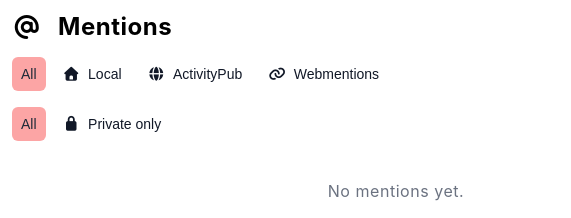
Test: MentionsView › shows the filtered empty state with active filters
Click the button "Local".
click(92, 74)  # box [54, 57, 131, 91]
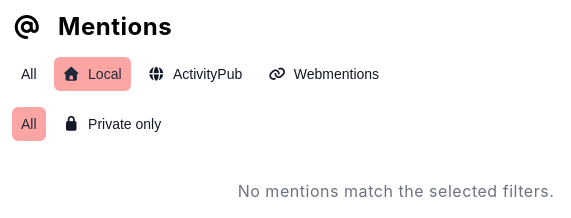
Expected: the text "No mentions match the selected filters." is shown, [238, 181, 554, 201]
